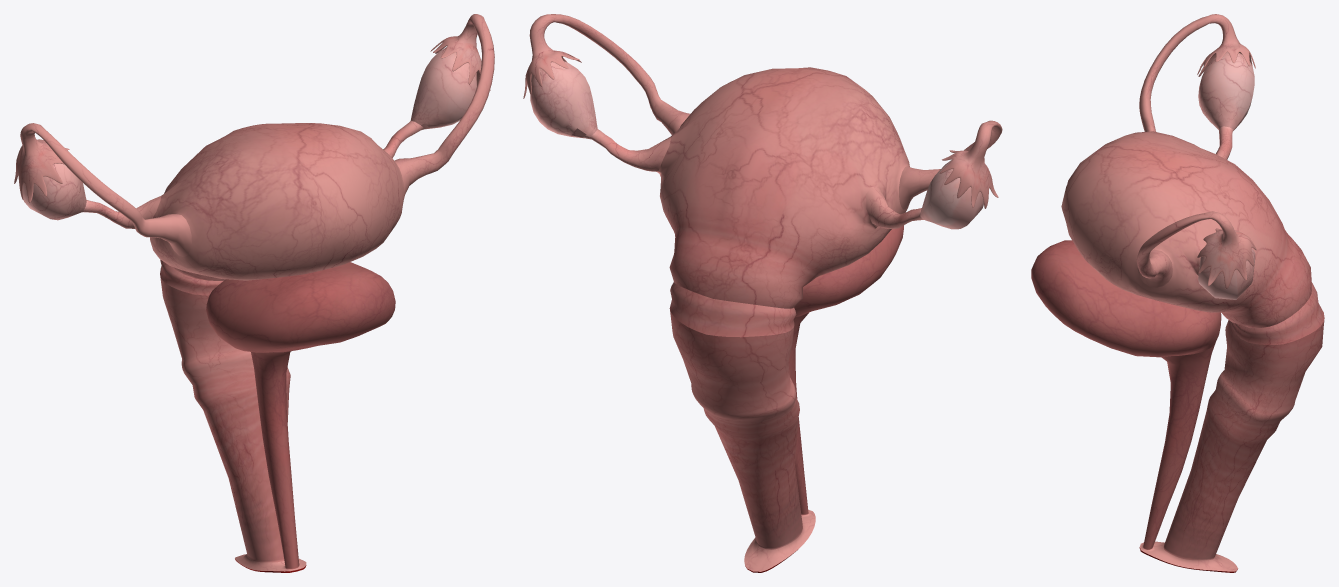
Rendered from femme.FBX.
3 renders of one model, left to right at view 1: azimuth 30°, elevation 25°; view 2: azimuth 150°, elevation 25°; view 3: azimuth 270°, elevation 25°, orthographic. The views are drawn at different scales.
Parts seen in each view (by area): view 1: Uterus, Vagina, Bladder, Fallopian tubes, Ovaries, Urethra, Broad ligaments, Cervix, Vestibule; view 2: Uterus, Vagina, Fallopian tubes, Ovaries, Cervix, Bladder, Broad ligaments, Vestibule, Urethra; view 3: Uterus, Vagina, Bladder, Fallopian tubes, Urethra, Ovaries, Cervix, Vestibule, Broad ligaments.
Boxes of the visible parts, x1,y1,x2,y2 form: Uterus: (150,123,404,280); Vagina: (160,276,290,560); Bladder: (206,262,395,352); Fallopian tubes: (14,14,494,256); Ovaries: (22,47,476,220); Urethra: (251,351,299,568); Broad ligaments: (82,121,424,228); Cervix: (160,259,223,295); Vestibule: (235,554,306,572); Uterus: (657,67,909,308); Vagina: (670,310,802,547); Fallopian tubes: (523,14,1002,209); Ovaries: (530,61,983,229); Cervix: (669,282,796,337); Bladder: (794,225,903,317); Broad ligaments: (588,129,923,229); Vestibule: (744,510,815,572); Urethra: (788,313,808,514); Uterus: (1061,131,1311,328); Vagina: (1164,320,1324,558); Bladder: (1031,240,1221,357); Fallopian tubes: (1136,14,1256,289); Urethra: (1143,342,1215,549); Ovaries: (1198,52,1255,299); Cervix: (1230,282,1324,344); Vestibule: (1139,541,1237,572); Broad ligaments: (1197,126,1233,266).
Bounding box in the file's own units: 35.26 × 36.23 × 21.06.
